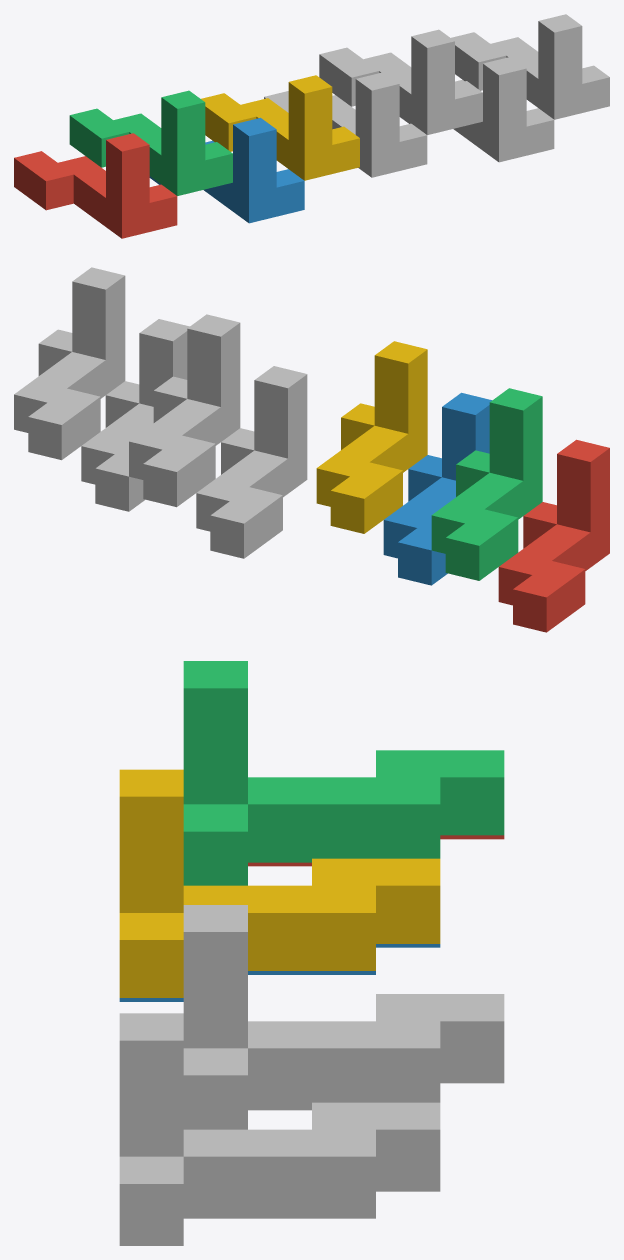
File: tiling.obj
The picture shows the model from 3 angles, top to bottom: view 1: azimuth 30°, elevation 25°; view 2: azimuth 150°, elevation 25°; view 3: azimuth 270°, elevation 25°; orthographic projection. The views are drawn at different scales.
Visible parts, largest first — view 1: copy_1_domain_1, copy_1_domain_3, copy_1_domain_7, copy_1_domain_4, copy_1_domain_8, copy_1_domain_5, copy_1_domain_2, copy_1_domain_6; view 2: copy_1_domain_3, copy_1_domain_8, copy_1_domain_7, copy_1_domain_4, copy_1_domain_5, copy_1_domain_1, copy_1_domain_6, copy_1_domain_2; view 3: copy_1_domain_8, copy_1_domain_3, copy_1_domain_7, copy_1_domain_4, copy_1_domain_6, copy_1_domain_2.
Boxes of the visible parts, x1=… form: copy_1_domain_1: x1=14, y1=133, x2=177, y2=238; copy_1_domain_3: x1=69, y1=90, x2=232, y2=195; copy_1_domain_7: x1=319, y1=29, x2=482, y2=134; copy_1_domain_4: x1=201, y1=75, x2=359, y2=180; copy_1_domain_8: x1=451, y1=14, x2=609, y2=119; copy_1_domain_5: x1=264, y1=72, x2=427, y2=177; copy_1_domain_2: x1=149, y1=117, x2=304, y2=223; copy_1_domain_6: x1=399, y1=57, x2=554, y2=162; copy_1_domain_3: x1=431, y1=388, x2=542, y2=580; copy_1_domain_8: x1=14, y1=267, x2=125, y2=460; copy_1_domain_7: x1=129, y1=314, x2=240, y2=507; copy_1_domain_4: x1=316, y1=341, x2=427, y2=533; copy_1_domain_5: x1=196, y1=366, x2=307, y2=558; copy_1_domain_1: x1=498, y1=439, x2=609, y2=632; copy_1_domain_6: x1=81, y1=319, x2=189, y2=511; copy_1_domain_2: x1=383, y1=392, x2=491, y2=585; copy_1_domain_8: x1=119, y1=1013, x2=440, y2=1241; copy_1_domain_3: x1=183, y1=661, x2=504, y2=885; copy_1_domain_7: x1=183, y1=905, x2=504, y2=1129; copy_1_domain_4: x1=119, y1=769, x2=440, y2=997; copy_1_domain_6: x1=119, y1=1187, x2=440, y2=1245; copy_1_domain_2: x1=119, y1=944, x2=440, y2=1001.
Bounding box in the file's own units: 18 × 4 × 6.
